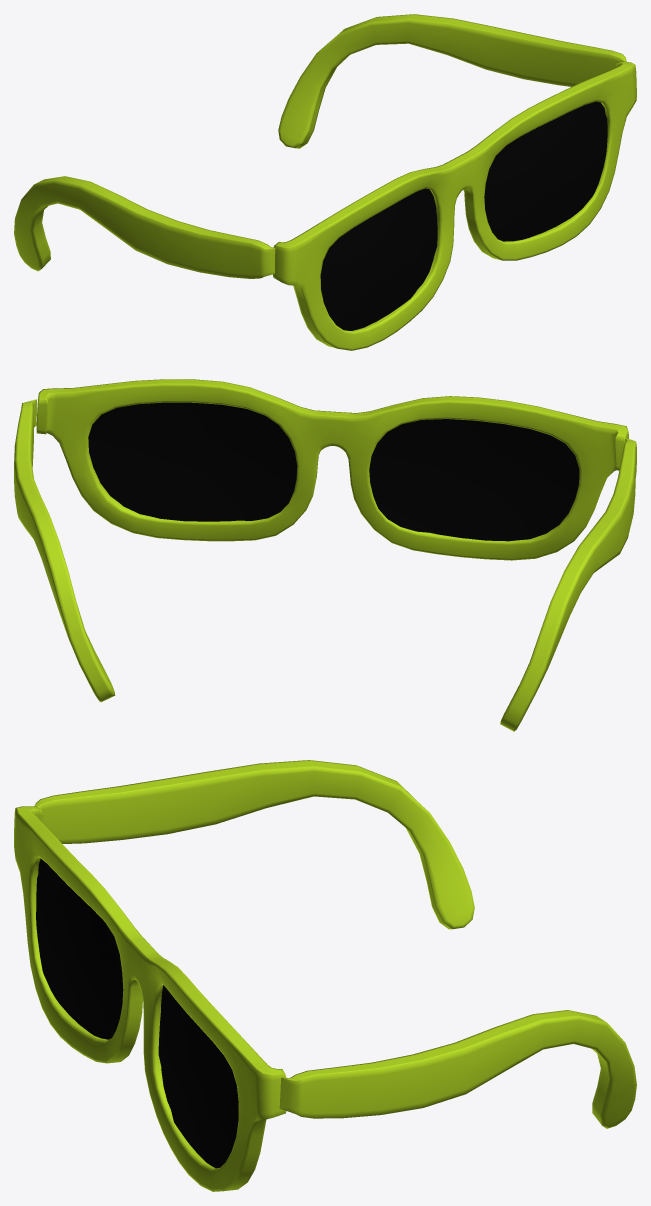
The model's file is lentes.fbx.
The picture shows the model from 3 angles, top to bottom: view 1: azimuth 30°, elevation 25°; view 2: azimuth 150°, elevation 25°; view 3: azimuth 270°, elevation 25°; orthographic projection. The views are drawn at different scales.
Parts seen in each view (by area): view 1: polySurface1, glasses:pPlane2, glasses:pPlane4; view 2: polySurface1, glasses:pPlane4, glasses:pPlane2; view 3: polySurface1, glasses:pPlane4, glasses:pPlane2.
Boxes of the visible parts, left/top/right/bottom form: polySurface1: left=14, top=14, right=636, bottom=350; glasses:pPlane2: left=484, top=101, right=607, bottom=241; glasses:pPlane4: left=320, top=188, right=437, bottom=330; polySurface1: left=14, top=379, right=636, bottom=731; glasses:pPlane4: left=369, top=419, right=579, bottom=541; glasses:pPlane2: left=88, top=402, right=297, bottom=521; polySurface1: left=14, top=760, right=636, bottom=1191; glasses:pPlane4: left=36, top=858, right=123, bottom=1039; glasses:pPlane2: left=158, top=985, right=238, bottom=1168.
Size of the model in its own units: 17.31 by 4.58 by 13.84.
